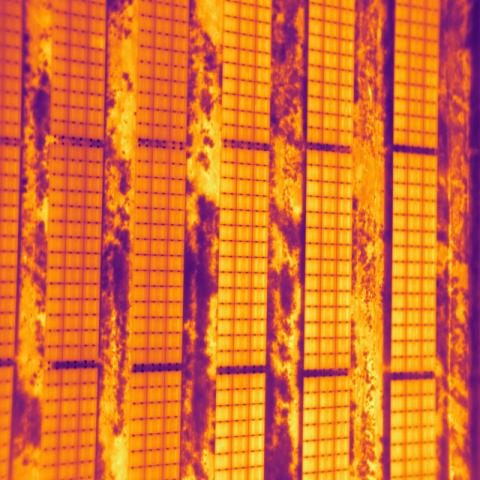fault: (88, 32, 106, 50)
